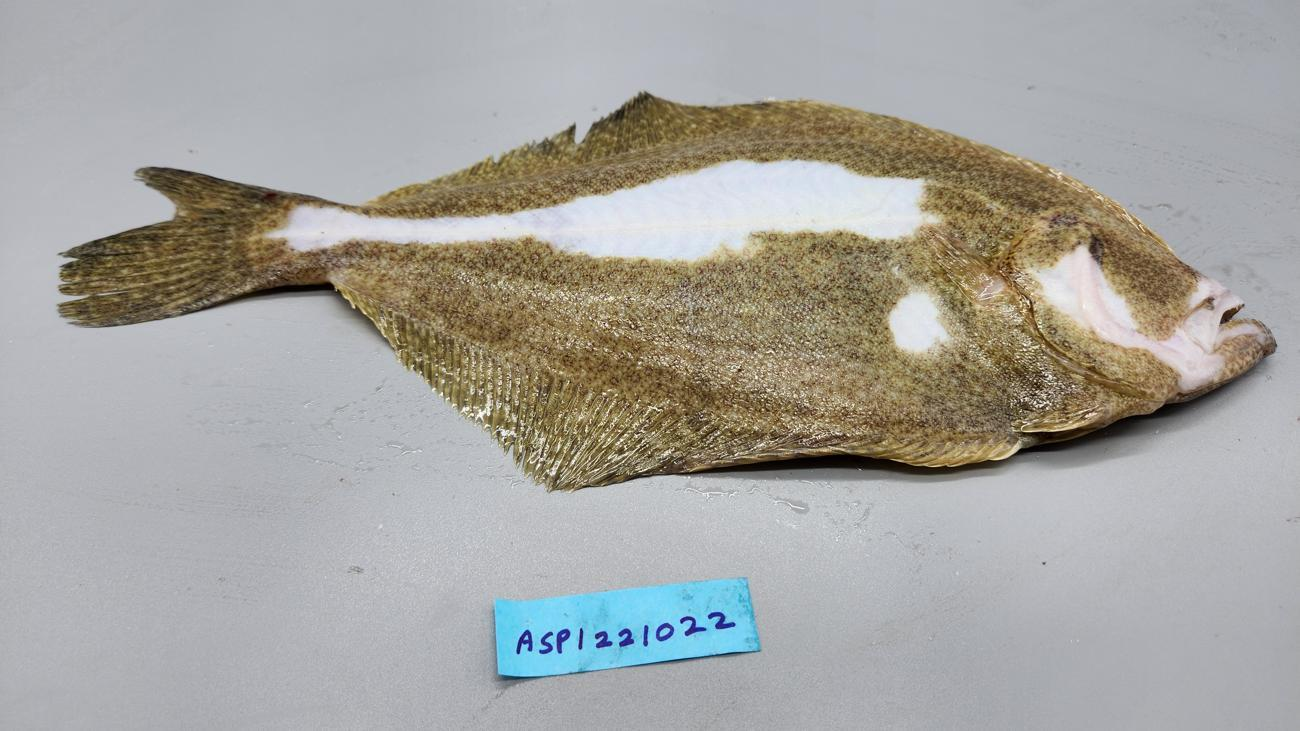SPDYH: (548, 334, 734, 412), (920, 222, 992, 272)
SPOUY: (42, 79, 1285, 508)
